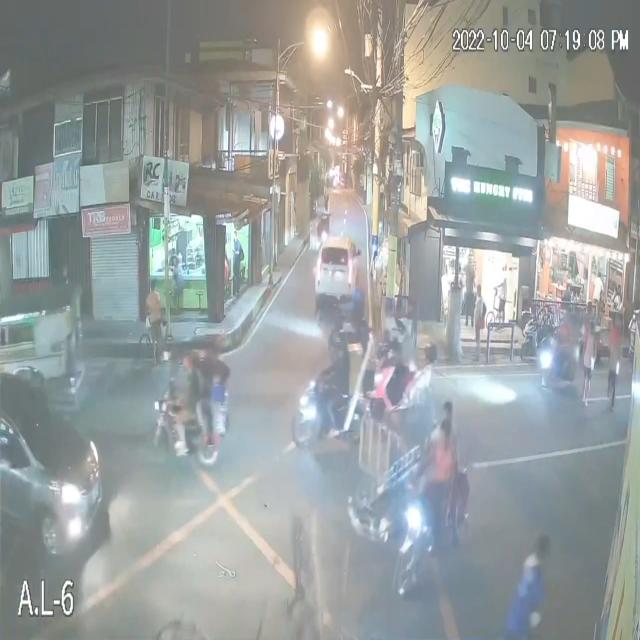Full-Faced: (326, 321, 344, 355), (179, 341, 194, 379)
Not-Wearing-Helmet: (434, 398, 459, 440)
